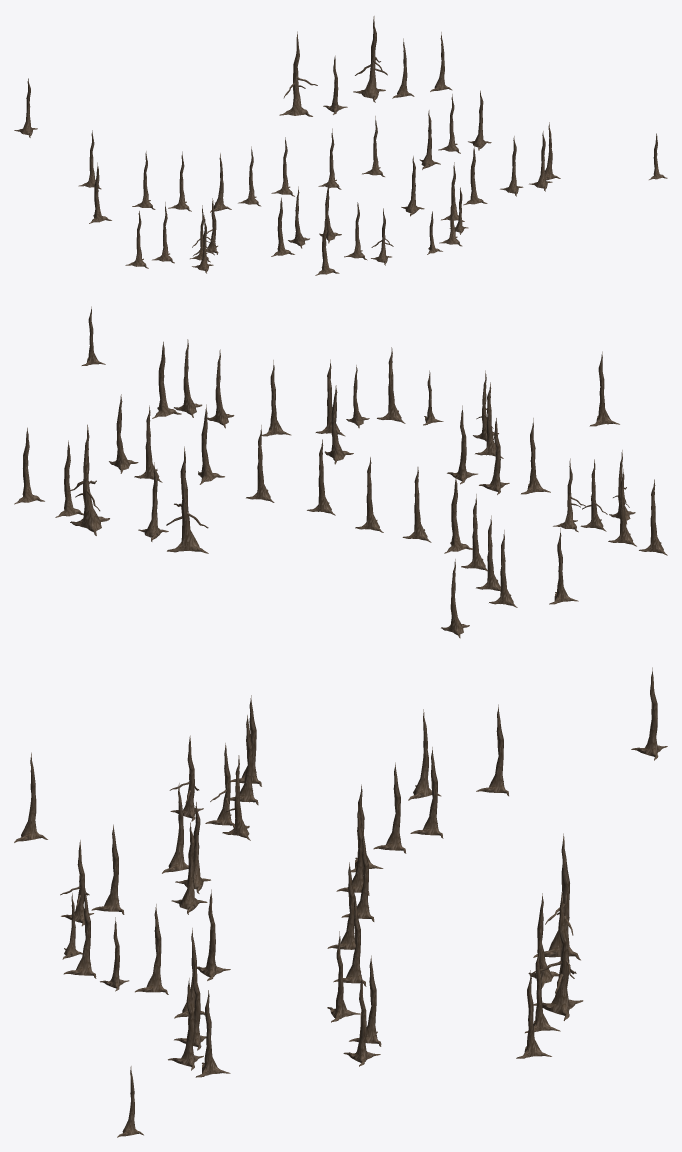
The model's file is songshuye_02.FBX.
3 renders of one model, top to bottom at view 1: azimuth 30°, elevation 25°; view 2: azimuth 150°, elevation 25°; view 3: azimuth 270°, elevation 25°, orthographic. The views are drawn at different scales.
Visible parts, largest first — view 1: Object007; view 2: Object007; view 3: Object007.
Boxes of the visible parts, x1,y1,x2,y2 form: Object007: (14,16,667,275); Object007: (14,306,667,638); Object007: (14,667,667,1137).
Bounding box in the file's own units: 14373 × 2617 × 10858.
